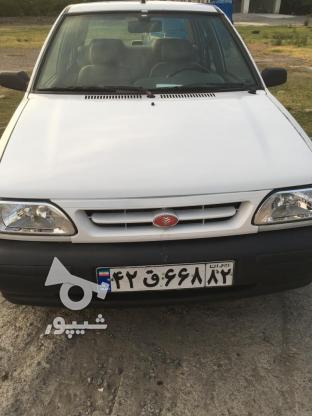car: (97, 261, 236, 299)
